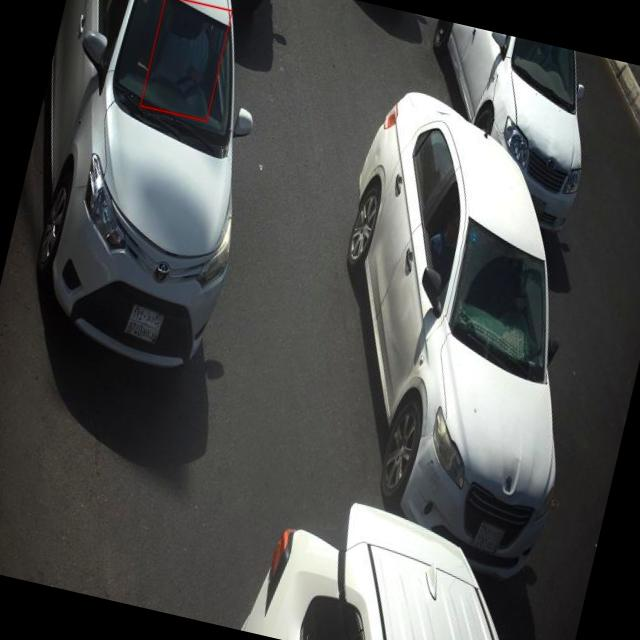person_without_seatbelt: (143, 5, 236, 116)
